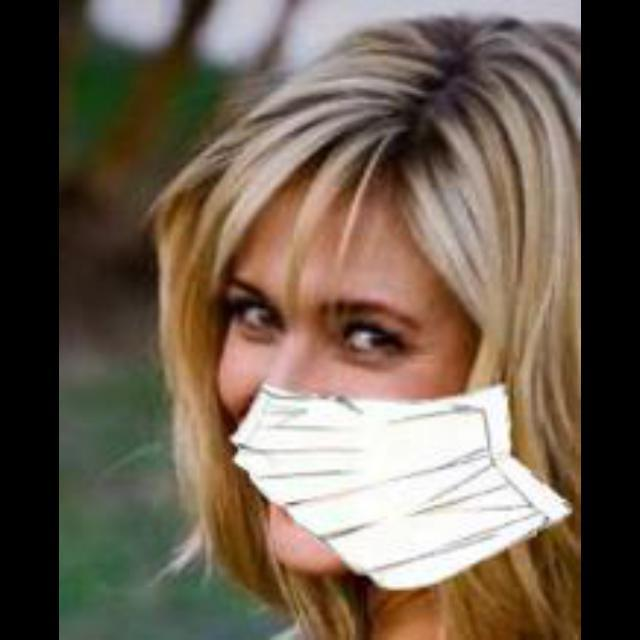suspicion: (202, 79, 576, 601)
